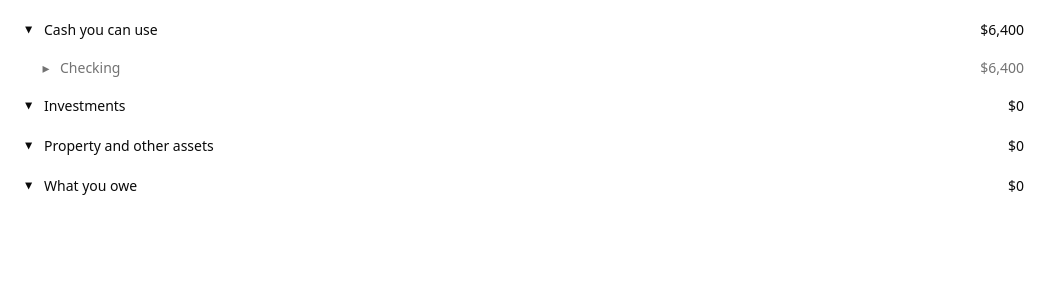
Test: AccountsTree › clicking a type row reveals its account leaves
Click the text "Checking".
click(80, 68)  # box [40,58,120,78]
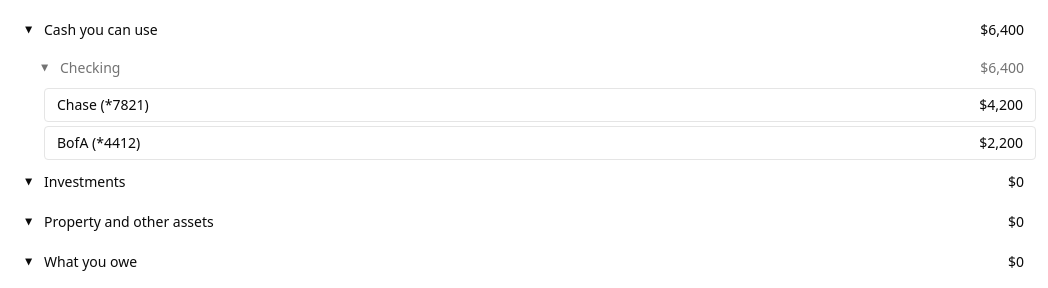
expect the text "Chase (*7821)" is shown: met, box [57,95,149,115]
expect the text "BofA (*4412)" is shown: met, box [57,133,140,153]
